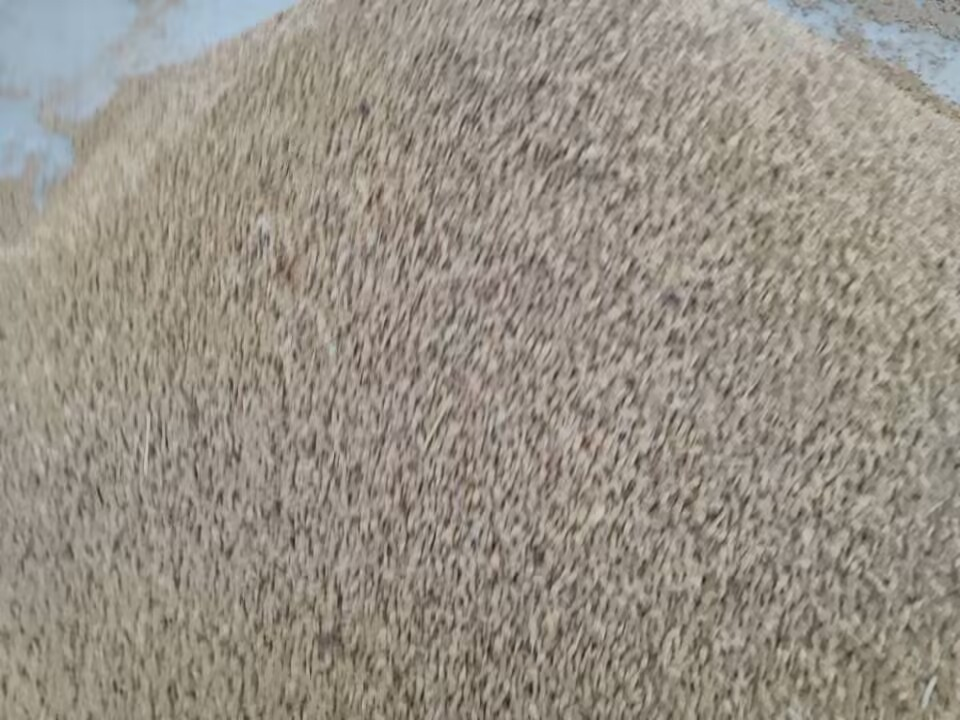Grain: (66, 2, 943, 597)
